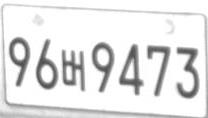3: (175, 46, 200, 98)
4: (118, 44, 144, 95)
6: (35, 38, 59, 90)
7: (147, 44, 171, 96)
9: (91, 42, 115, 92), (8, 36, 30, 87)
버: (61, 50, 85, 91)
